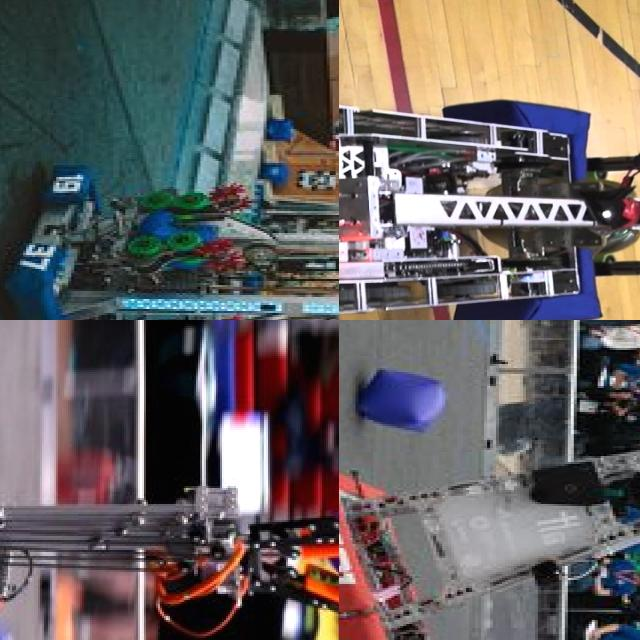FRC-Robots: (0, 327, 339, 640), (339, 9, 638, 320), (339, 412, 640, 640), (0, 148, 339, 320)
